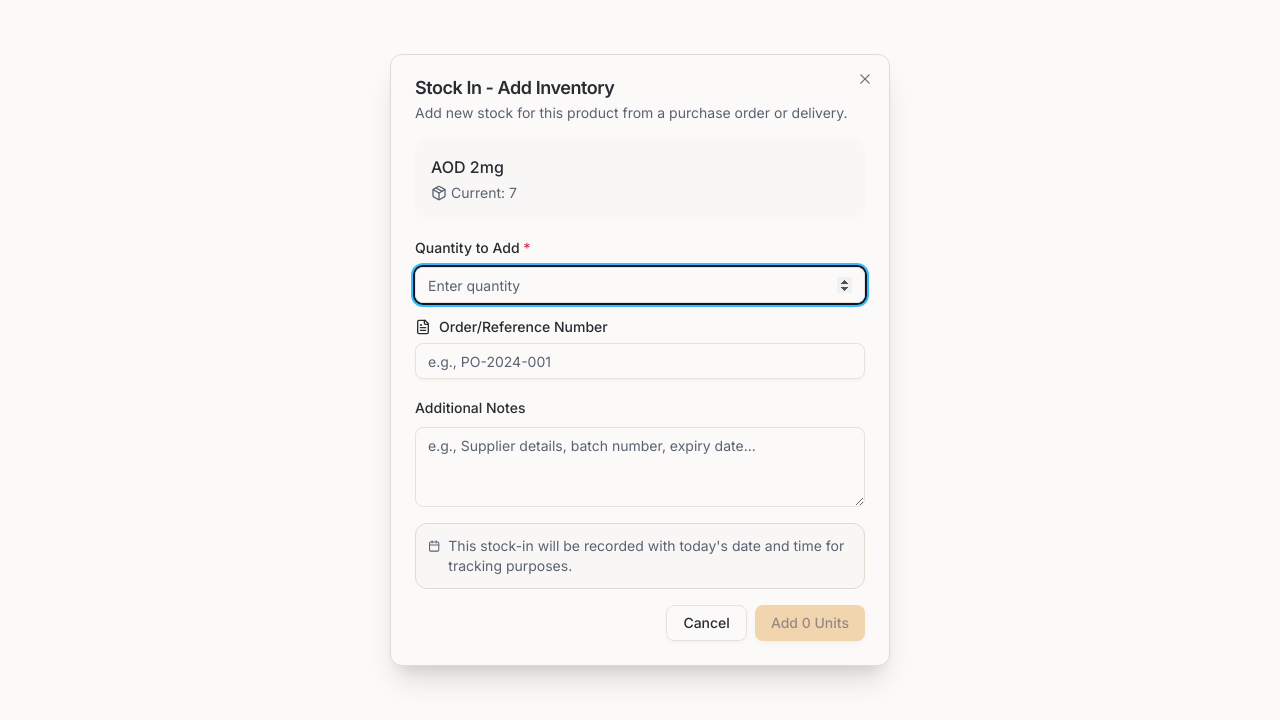
it: StockInDialog › prompts once a positive quantity is entered
Expected: the text "receiving a shipment?" is not shown
Type "12" into the number field labelled "Quantity to Add *" at (640, 285), box [415,267,865,303]
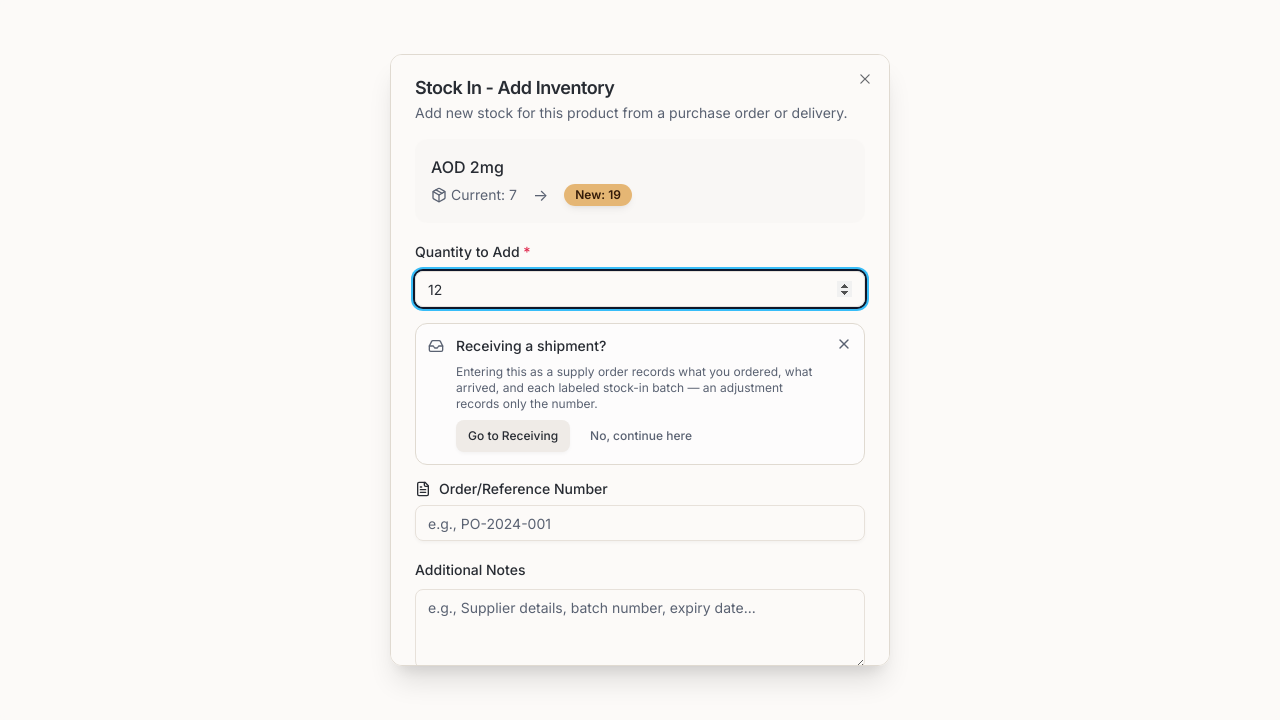
Result: the text "Receiving a shipment?" is shown at [456,337,606,354]
